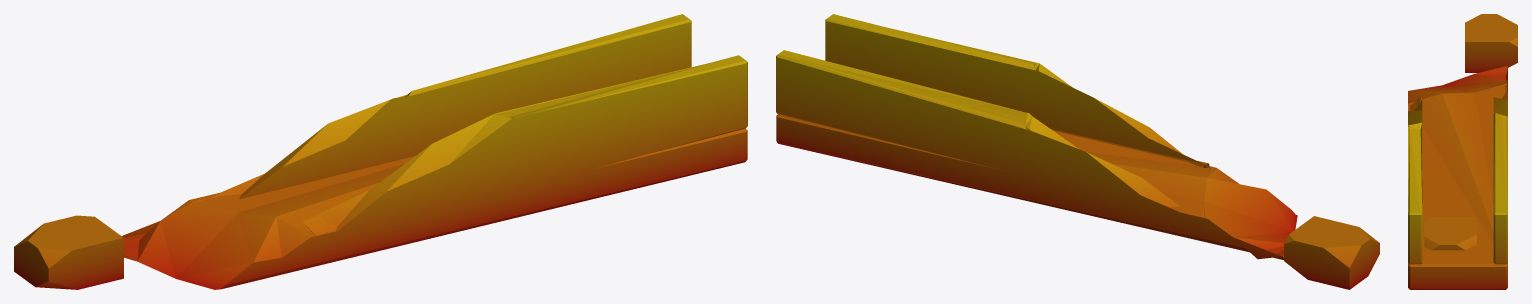
Rendered from aqueduct_channel_broken.glb.
3 renders of one model, left to right at view 1: azimuth 30°, elevation 25°; view 2: azimuth 150°, elevation 25°; view 3: azimuth 270°, elevation 25°, orthographic. The views are drawn at different scales.
Visible parts, largest first — view 1: aqueduct_channel_broken; view 2: aqueduct_channel_broken; view 3: aqueduct_channel_broken.
Part boxes in pixels (box(x1,y1,x2,y2)): aqueduct_channel_broken: box(14, 14, 747, 289); aqueduct_channel_broken: box(776, 14, 1379, 289); aqueduct_channel_broken: box(1408, 14, 1517, 289).
Size of what is drawn, in the model's own units: 8.16 by 1.2 by 1.54.
